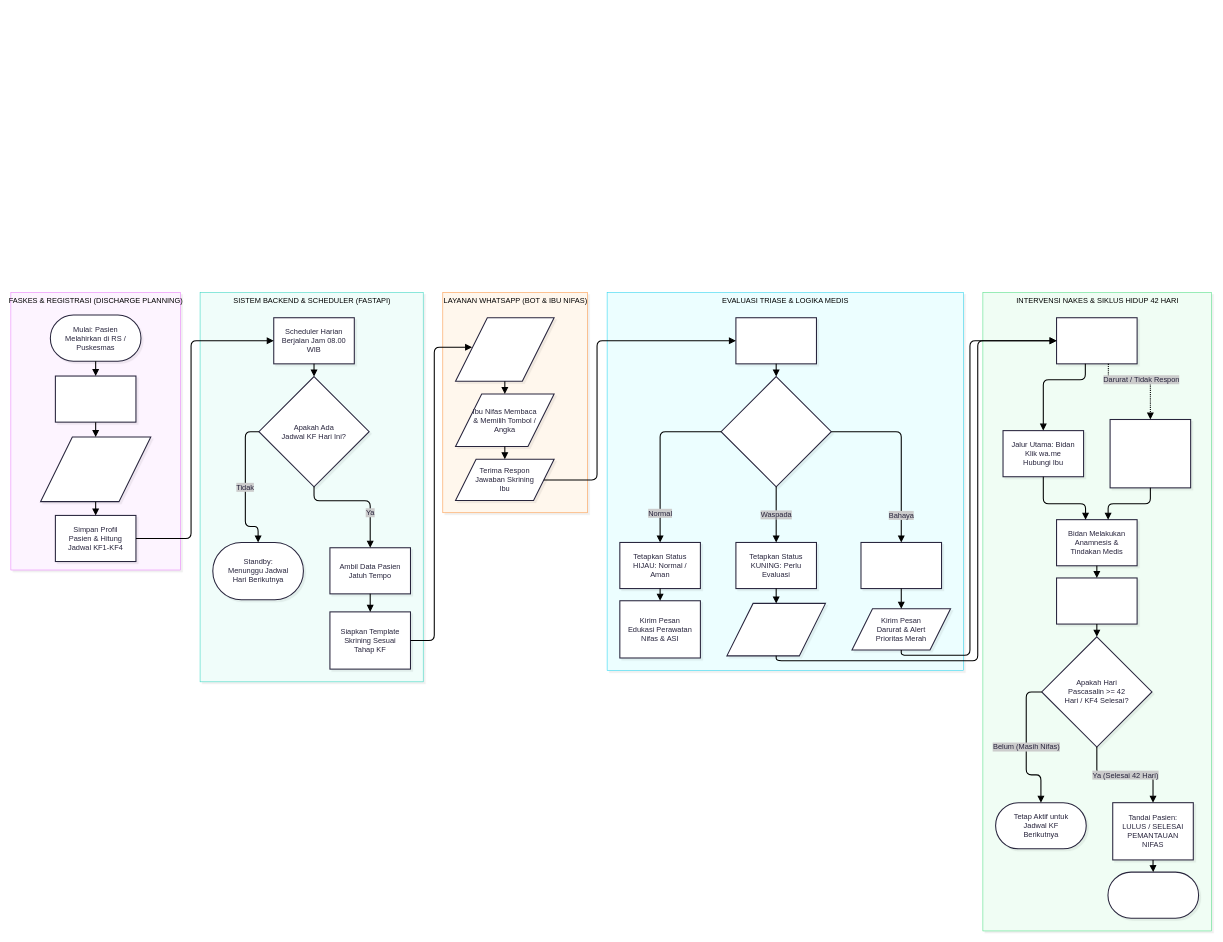
Image size: 1223x942. Some labels were removed from this diagram. The shapes that lost their labels are listed below. From the top down, each one's centre as x and y in pixels, then its label:
the point at 505,350: Kirim Pesan Reminder & Pilihan Skrining Langsung ke WA Ibu
the point at 777,341: Ekstraksi Jawaban Skrining Ibu
the point at 1098,341: Bidan Menerima Alert di Dashboard PWA
the point at 96,400: Persiapan Pulang / Discharge Planning
the point at 777,432: Hasil Skrining Gejala Sesuai Buku KIA?
the point at 96,470: Bidan & Pendamping Input Data: No WA Ibu & No Darurat Suami
the point at 1151,454: Jalur Fail-Safe: Hubungi Kontak Darurat Suami jika Ibu Tidak Respon
the point at 902,566: Tetapkan Status MERAH: Bahaya Akut
the point at 1098,601: Bidan Update Catatan Rekam Medis di PWA
the point at 777,630: Kirim Kontak Bidan PJ & Alert Pantauan ke PWA
the point at 1154,896: Selesai: Pemantauan Nifas Lengkap
